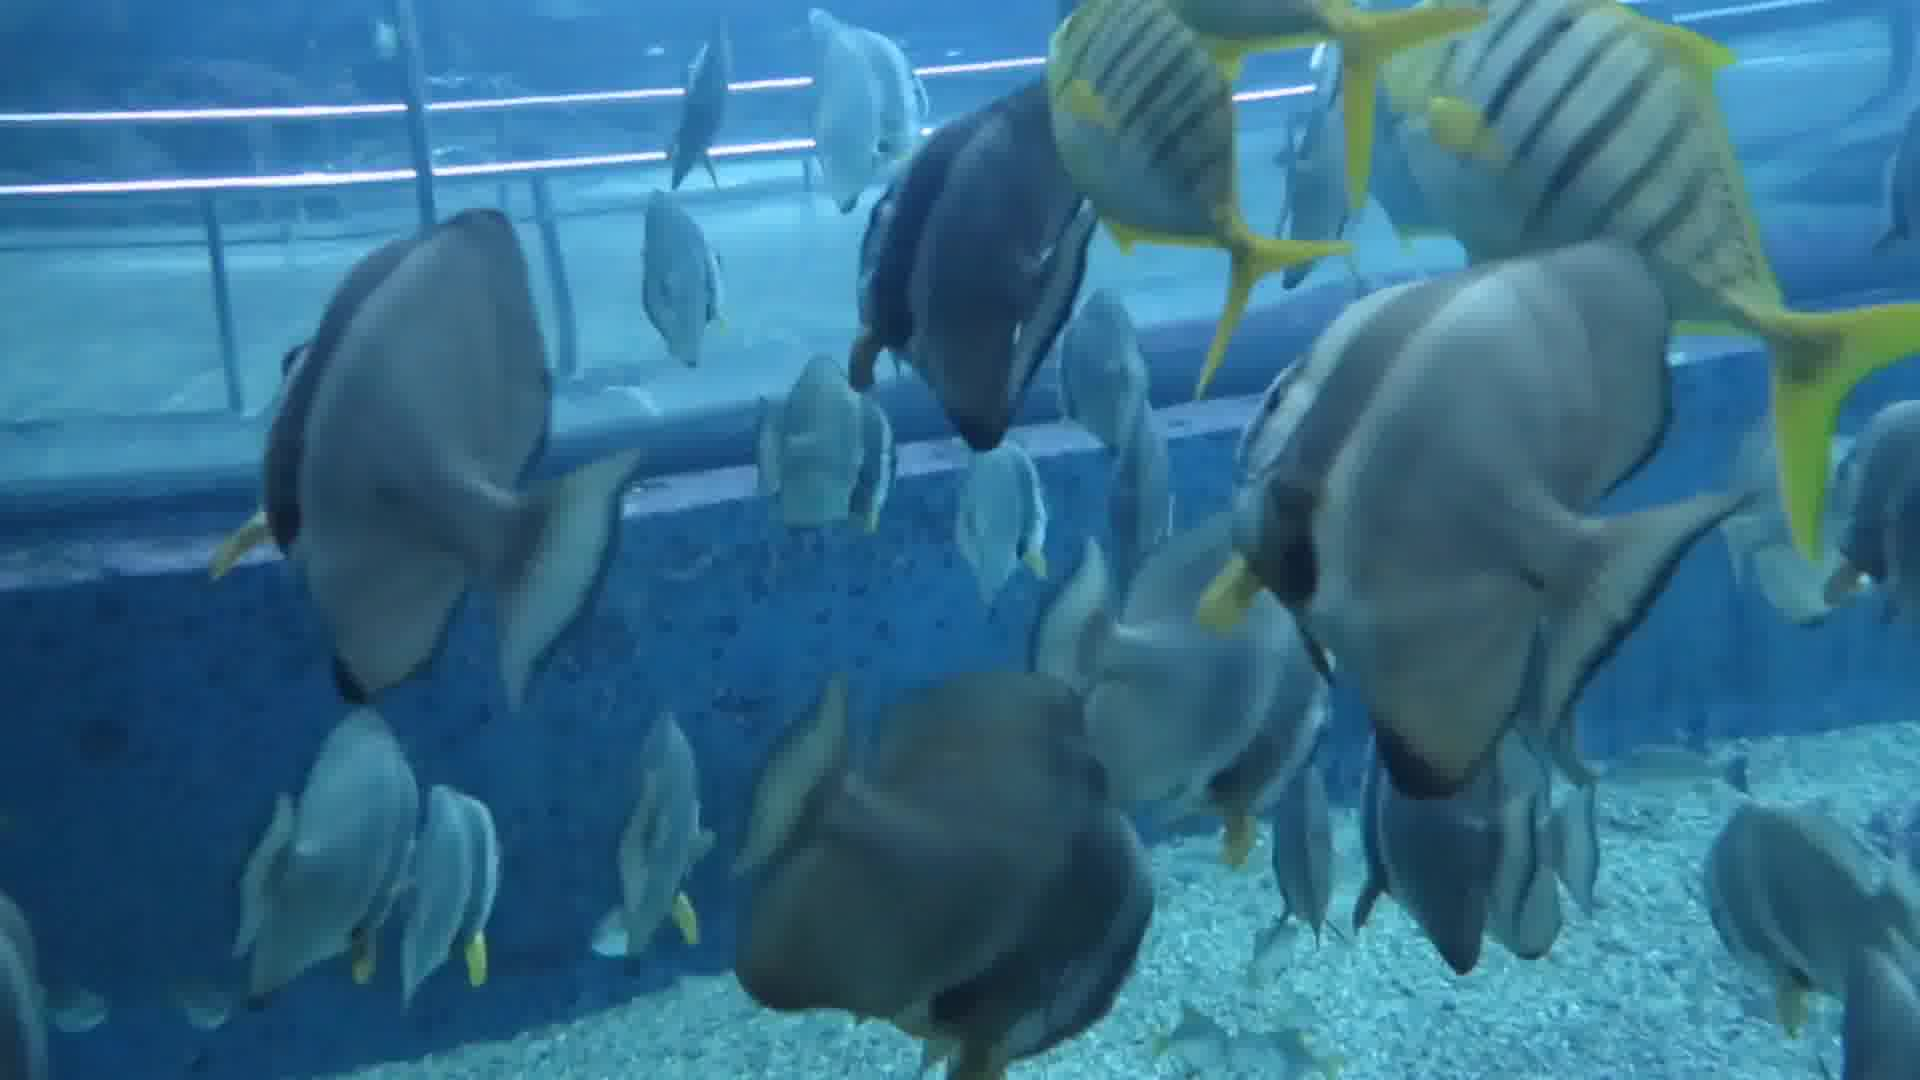Platax teira: (1230, 243, 1710, 808), (160, 171, 644, 711), (702, 670, 1168, 1080)
